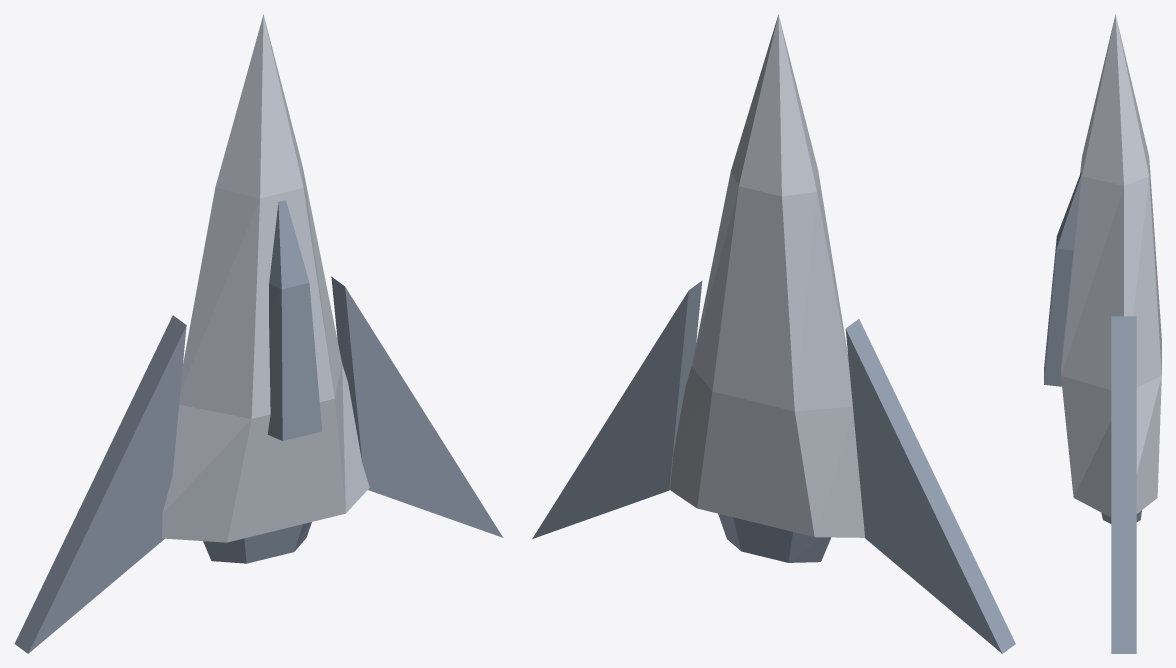
The model's file is ship.glb.
3 views of the same model, side by side, from view 1: azimuth 30°, elevation 25°; view 2: azimuth 150°, elevation 25°; view 3: azimuth 270°, elevation 25° (orthographic). The views are drawn at different scales.
Parts seen in each view (by area): view 1: Hull, WingLeft, WingRight, Canopy, Nozzle; view 2: Hull, WingLeft, WingRight, Nozzle; view 3: Hull, WingRight, Canopy.
Boxes of the visible parts, x1,y1,x2,y2 form: Hull: (162,14,369,542); WingLeft: (14,315,186,653); WingRight: (331,276,503,537); Canopy: (267,200,322,440); Nozzle: (203,522,311,563); Hull: (670,14,864,537); WingLeft: (845,319,1015,653); WingRight: (532,281,702,538); Nozzle: (718,513,831,562); Hull: (1061,14,1161,517); WingRight: (1111,316,1136,653); Canopy: (1044,172,1081,386).
Size of the model in its own units: 24 by 28 by 5.6.
